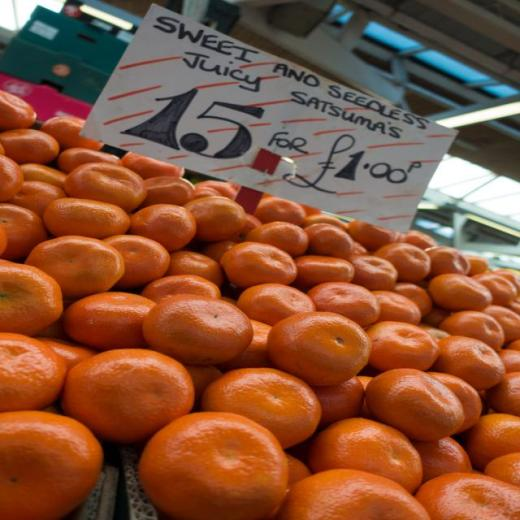Grape: (135, 417, 310, 517), (63, 349, 183, 442), (0, 411, 94, 518), (211, 368, 330, 444), (307, 414, 420, 488), (287, 470, 420, 516), (420, 472, 520, 517)
